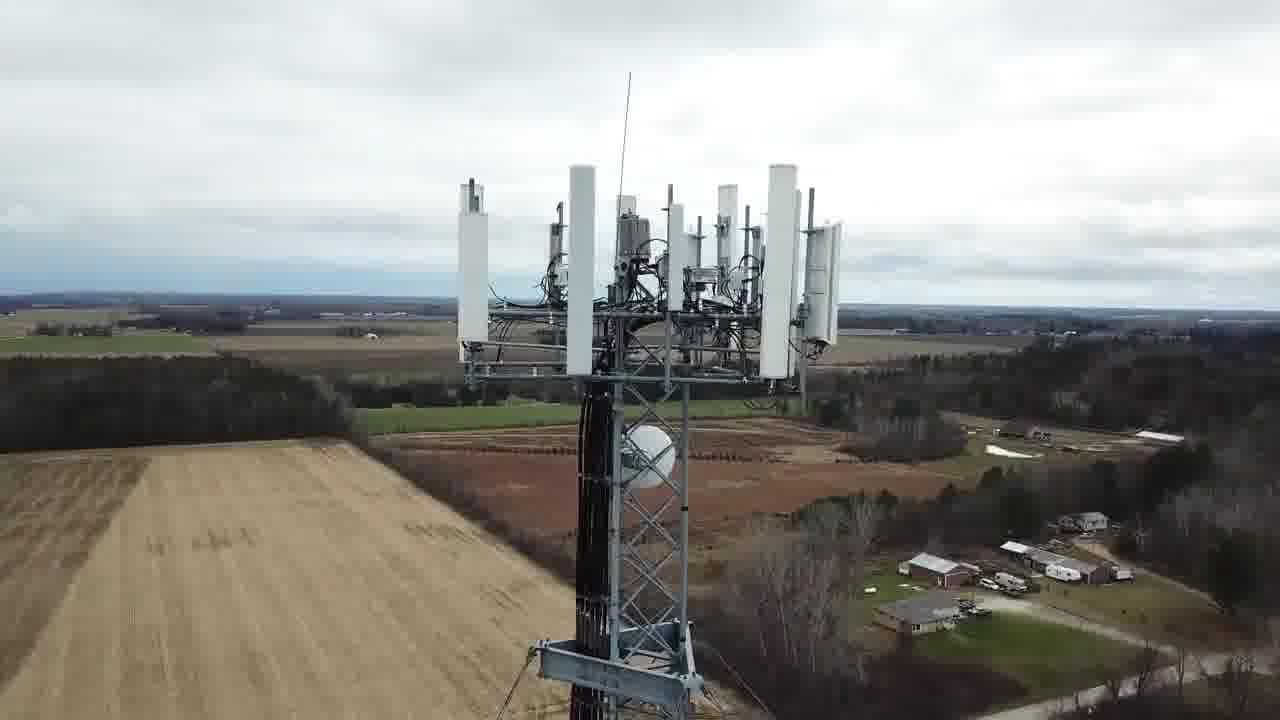antenna: (760, 151, 803, 387), (565, 151, 601, 380), (800, 207, 852, 355), (454, 208, 493, 347), (607, 423, 678, 496), (711, 177, 747, 308), (664, 203, 687, 305)
